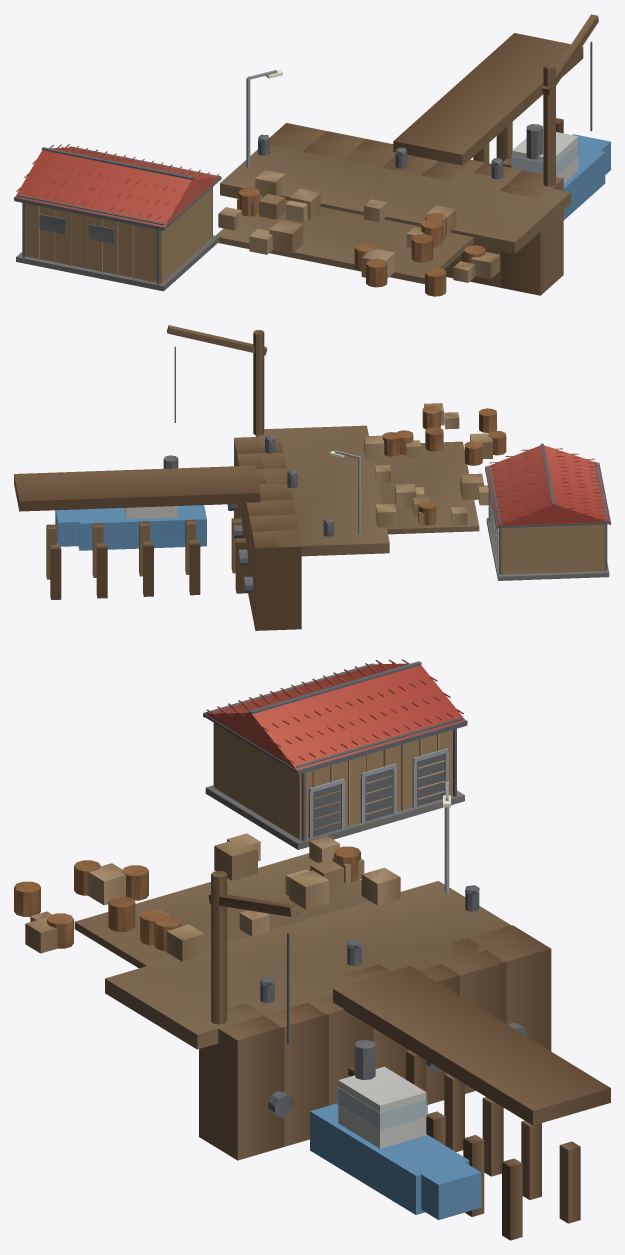
The model's file is Port_P1.fbx.
3 renders of one model, top to bottom at view 1: azimuth 30°, elevation 25°; view 2: azimuth 150°, elevation 25°; view 3: azimuth 270°, elevation 25°, orthographic. The views are drawn at different scales.
Visible parts, largest first — view 1: Port.Apron, Port.Shed, Port.Pier0, Port.Crates, Port.QuayWall, Port.Boat, Port.Derrick, Port.Lamp0; view 2: Port.Apron, Port.Shed, Port.Pier0, Port.QuayWall, Port.Crates, Port.Boat, Port.Derrick; view 3: Port.Shed, Port.Apron, Port.QuayWall, Port.Pier0, Port.Boat, Port.Crates, Port.Derrick.
Part boxes in pixels (x1,y1,x2,y2): Port.Apron: (215,133,570,284); Port.Shed: (14,144,221,291); Port.Pier0: (393,33,583,167); Port.Crates: (218,170,499,296); Port.QuayWall: (269,123,563,295); Port.Boat: (511,124,610,220); Port.Derrick: (542,14,598,186); Port.Lamp0: (246,70,282,167); Port.Apron: (255,425,479,556); Port.Shed: (485,443,610,580); Port.Pier0: (14,465,260,599); Port.QuayWall: (227,437,301,630); Port.Crates: (364,403,506,527); Port.Boat: (55,455,206,550); Port.Derrick: (167,325,267,435); Port.Shed: (203,659,467,849); Port.Apron: (74,853,519,1049); Port.QuayWall: (199,925,551,1160); Port.Pier0: (333,966,610,1240); Port.Boat: (310,1039,481,1219); Port.Crates: (14,833,400,961); Port.Derrick: (208,870,298,1044).
Bounding box in the file's own units: 6722 × 2445 × 4413.
